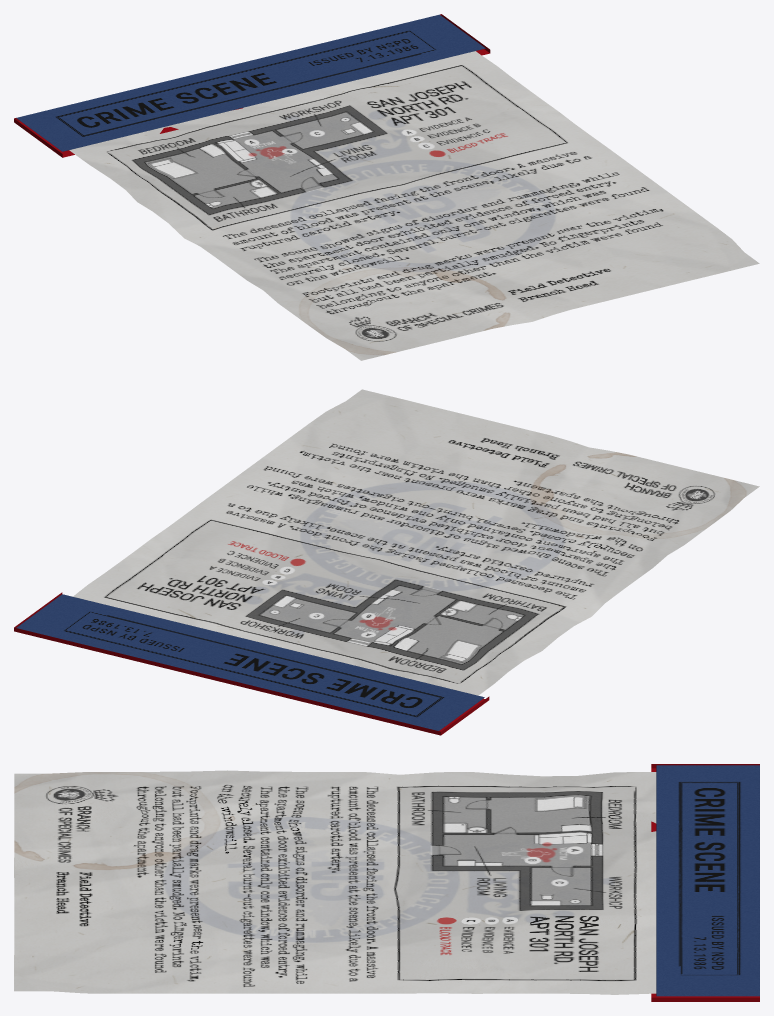
Rendered from crimeSceneRe.fbx.
3 views of the same model, one above another, from view 1: azimuth 30°, elevation 25°; view 2: azimuth 150°, elevation 25°; view 3: azimuth 270°, elevation 25° (orthographic). The views are drawn at different scales.
Parts seen in each view (by area): view 1: Plane, Plane.001; view 2: Plane, Plane.001; view 3: Plane, Plane.001.
Part boxes in pixels (box(x1,y1,x2,y2)): Plane: box(69, 51, 759, 360); Plane.001: box(14, 14, 490, 157); Plane: box(73, 389, 759, 695); Plane.001: box(14, 592, 489, 735); Plane: box(14, 770, 656, 994); Plane.001: box(651, 764, 759, 1001).
Size of the model in its own units: 1252 by 24.4 by 1691.
3 materials, 2 textured.
